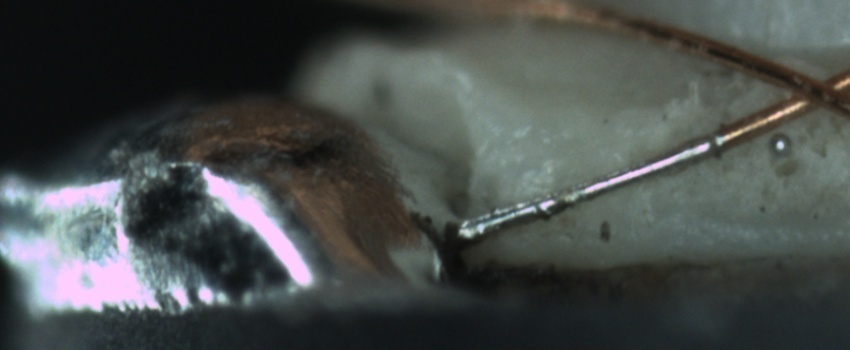CL: (761, 56, 848, 123)
TS: (445, 136, 712, 245)
